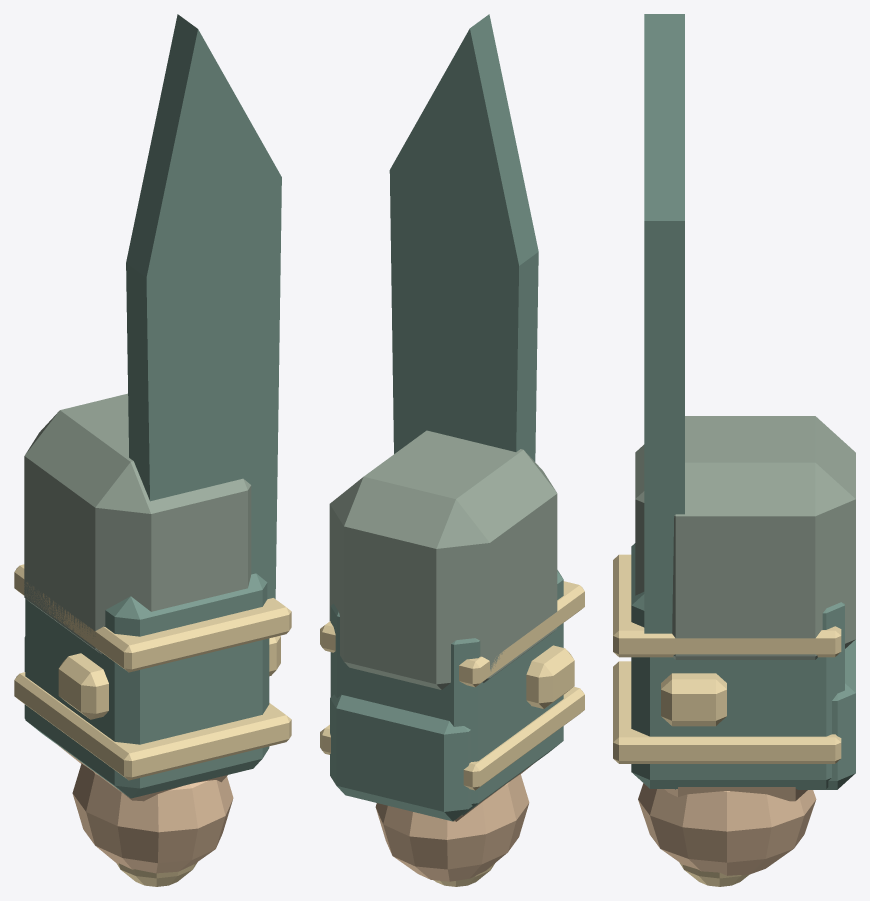
File: Dragon_Defender_RightArm.fbx
3 views of the same model, side by side, from view 1: azimuth 30°, elevation 25°; view 2: azimuth 150°, elevation 25°; view 3: azimuth 270°, elevation 25° (orthographic). The views are drawn at different scales.
Visible parts, largest first — view 1: Dragon_Defender_RightArm; view 2: Dragon_Defender_RightArm; view 3: Dragon_Defender_RightArm.
Boxes of the visible parts, left/top/right/bottom form: Dragon_Defender_RightArm: left=14, top=14, right=291, bottom=886; Dragon_Defender_RightArm: left=320, top=14, right=584, bottom=886; Dragon_Defender_RightArm: left=613, top=14, right=855, bottom=886.
Size of the model in its own units: 31 by 130 by 33.
